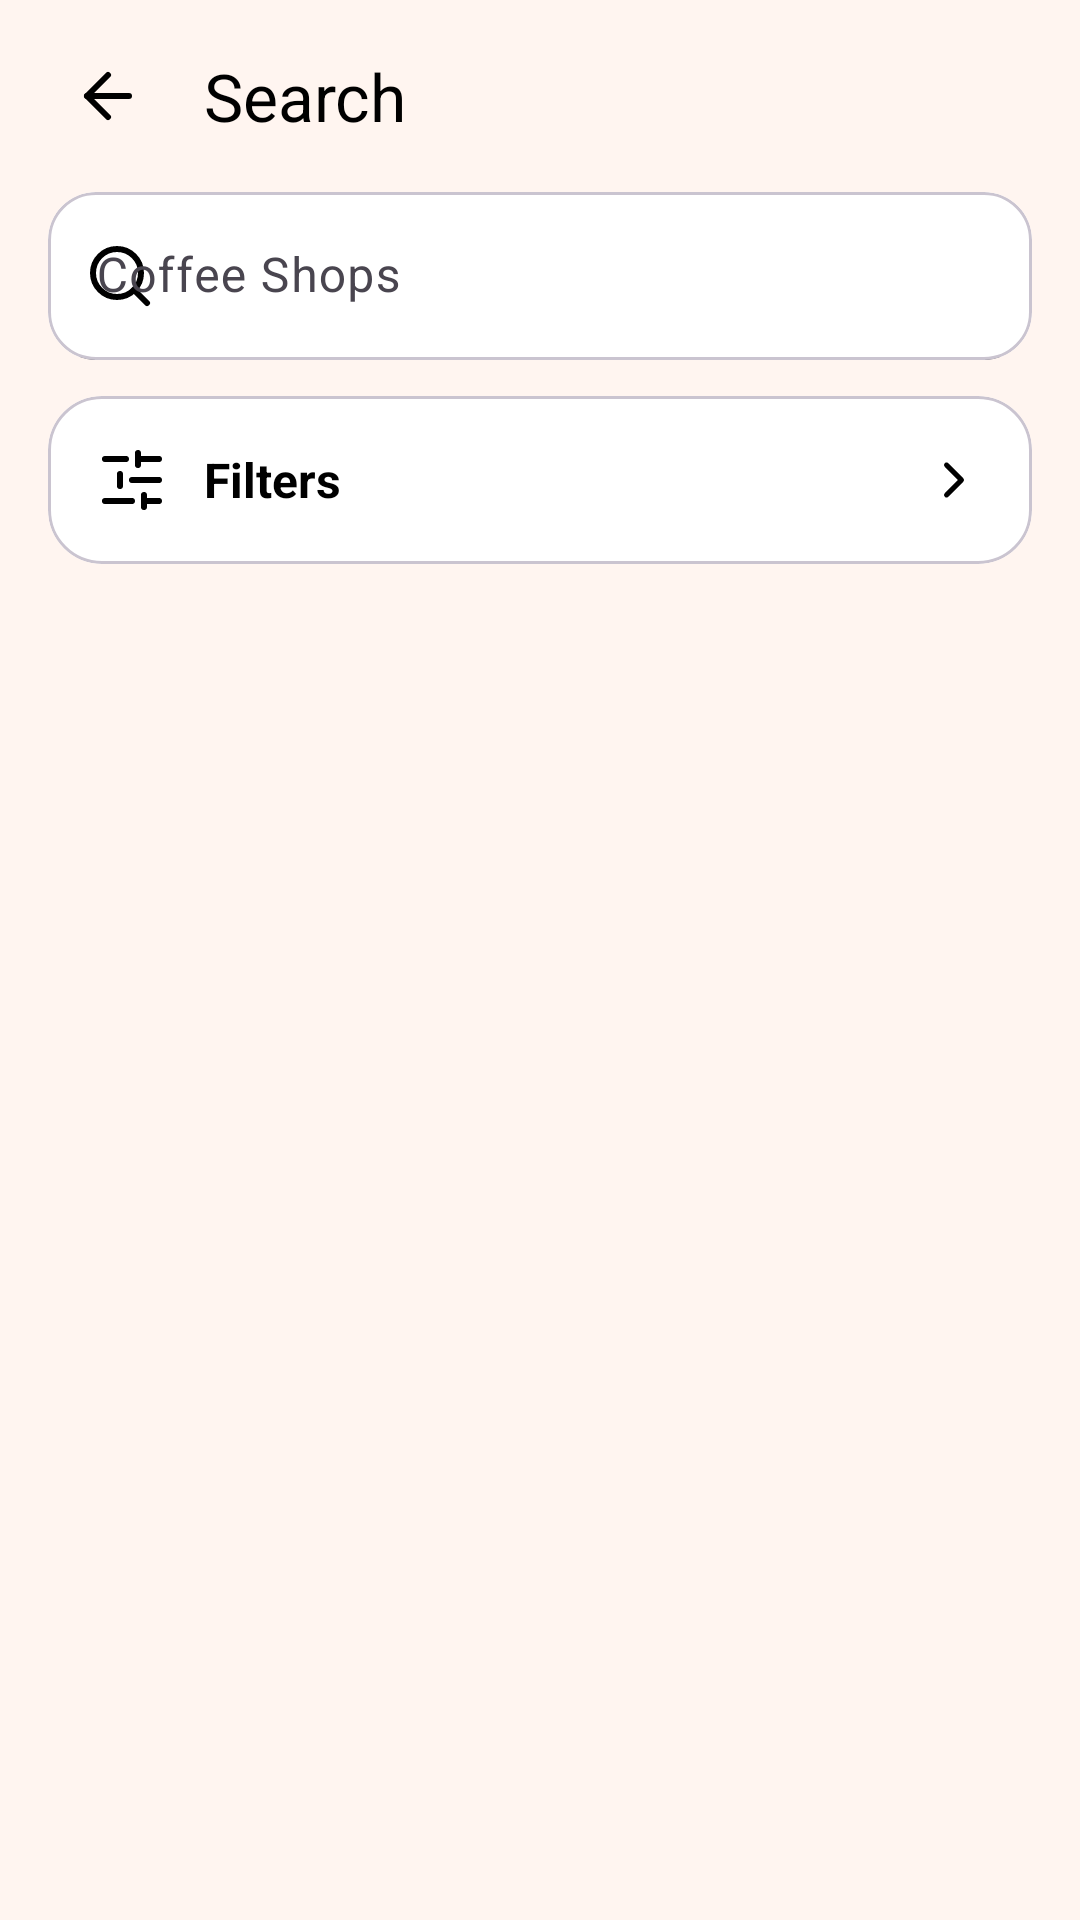

Locate icon controls on the screen. Image size 1080px x 1920px, boxes as (x1, y1, x2, y2).
ctc arrow drop foward: (944, 462, 964, 498)
ctc filter: (102, 450, 162, 510)
